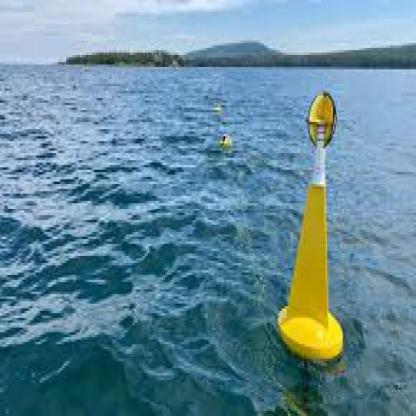buoy: (264, 79, 353, 375)
